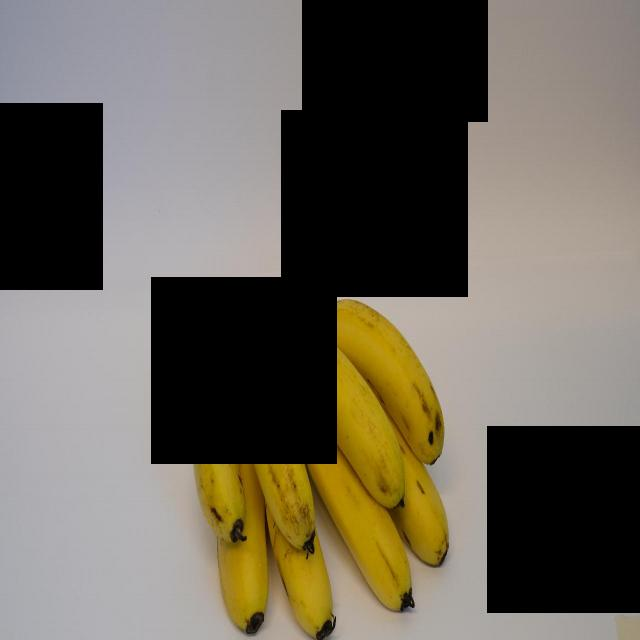banana: (284, 316, 409, 512), (299, 420, 421, 618), (317, 289, 449, 465), (238, 334, 322, 552), (183, 326, 256, 549), (218, 438, 268, 630)
